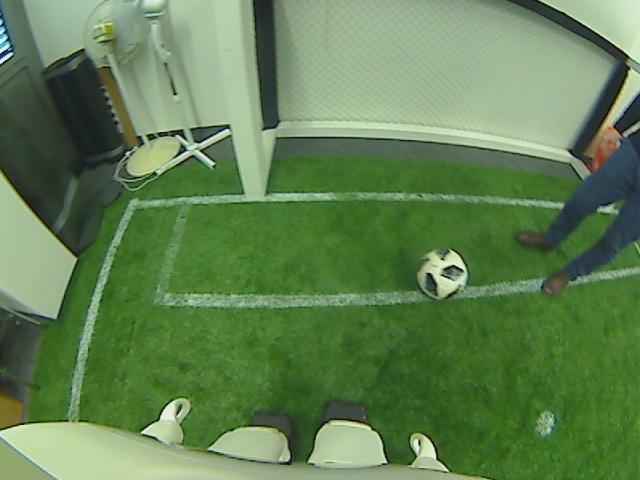ball: (414, 246, 468, 303)
